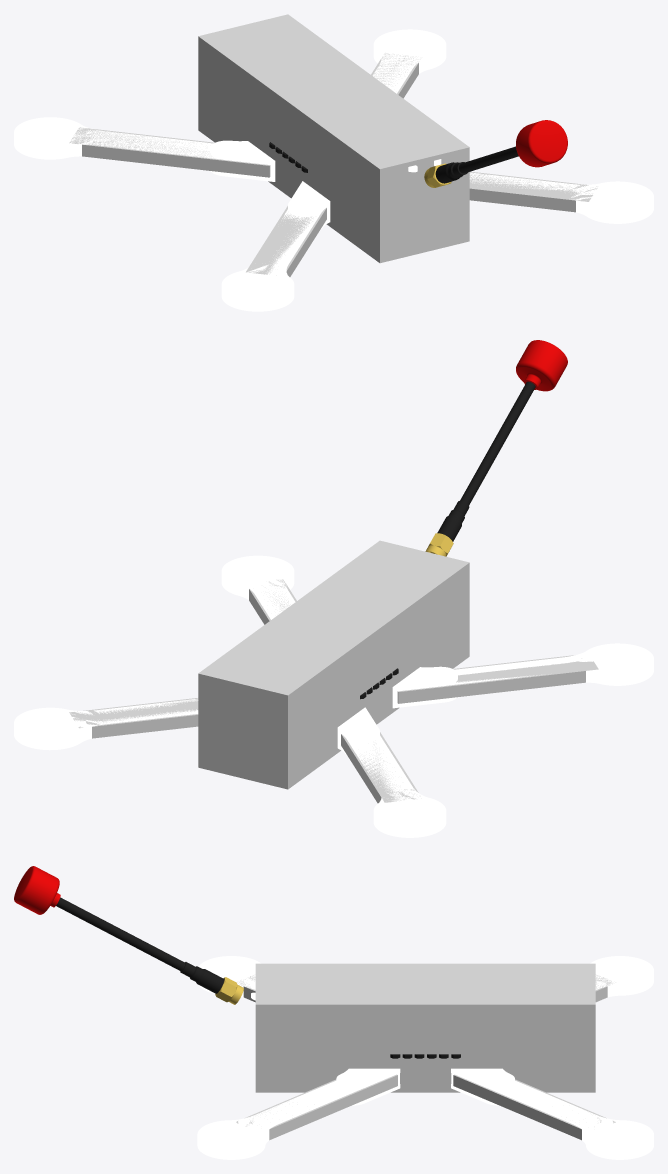
The model's file is drone1.glb.
3 renders of one model, top to bottom at view 1: azimuth 30°, elevation 25°; view 2: azimuth 150°, elevation 25°; view 3: azimuth 270°, elevation 25°, orthographic. The views are drawn at different scales.
Visible parts, largest first — view 1: Body-colbox, Arm, Arm1-colbox, FPVAntenna, Arm3-colbox, Arm4-colbox, Armplate, Arm2-colbox, Frame; view 2: Body-colbox, Arm, FPVAntenna, Arm4-colbox, Arm2-colbox, Armplate, Arm1-colbox; view 3: Body-colbox, Arm, FPVAntenna, Armplate, Arm3-colbox, Arm2-colbox, Frame.
Boxes of the visible parts, bbox=[...] form: Body-colbox: bbox=[198, 14, 469, 263]; Arm: bbox=[14, 29, 653, 311]; Arm1-colbox: bbox=[69, 127, 270, 177]; FPVAntenna: bbox=[424, 120, 567, 187]; Arm3-colbox: bbox=[469, 171, 597, 212]; Arm4-colbox: bbox=[246, 206, 326, 276]; Armplate: bbox=[210, 140, 330, 216]; Arm2-colbox: bbox=[371, 53, 420, 98]; Frame: bbox=[211, 159, 441, 229]; Body-colbox: bbox=[198, 540, 469, 789]; Arm: bbox=[14, 555, 653, 837]; FPVAntenna: bbox=[425, 340, 567, 556]; Arm4-colbox: bbox=[397, 655, 598, 703]; Arm2-colbox: bbox=[69, 698, 198, 738]; Armplate: bbox=[337, 666, 457, 743]; Arm1-colbox: bbox=[341, 732, 421, 803]; Body-colbox: bbox=[255, 963, 595, 1092]; Arm: bbox=[197, 956, 653, 1159]; FPVAntenna: bbox=[14, 866, 243, 1004]; Armplate: bbox=[336, 1068, 514, 1090]; Arm3-colbox: bbox=[236, 1074, 397, 1140]; Arm2-colbox: bbox=[453, 1074, 615, 1140]; Frame: bbox=[251, 981, 498, 1105].
Bounding box in the file's own units: 0.188 × 0.0927 × 0.2635.
